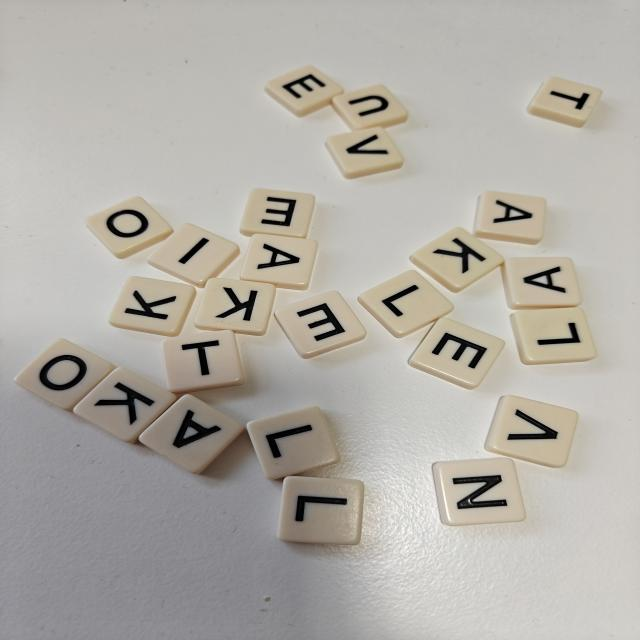a: (139, 395, 245, 474), (501, 257, 581, 310), (241, 234, 318, 289), (473, 191, 546, 244)
e: (409, 318, 505, 389), (275, 291, 366, 358), (265, 65, 343, 117), (241, 189, 315, 238)
i: (148, 224, 240, 287)
k: (74, 368, 177, 443), (410, 228, 504, 292), (109, 277, 195, 336), (195, 278, 275, 335)
l: (247, 406, 341, 479), (358, 270, 454, 337), (278, 476, 364, 545), (511, 308, 596, 365)
n: (433, 458, 526, 526)
o: (15, 339, 115, 411), (86, 197, 173, 258)
t: (162, 330, 244, 393), (527, 77, 602, 127)
u: (332, 85, 408, 130)
v: (485, 395, 578, 467), (326, 127, 403, 178)
